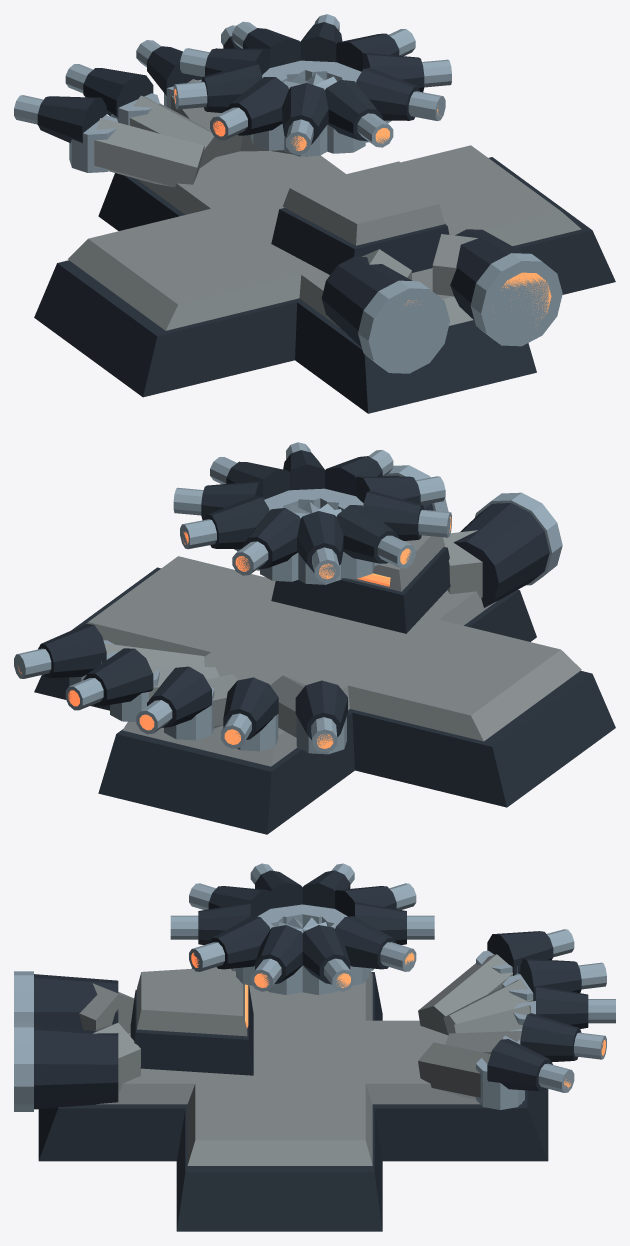
Rendered from c3_miniboss.glb.
The picture shows the model from 3 angles, top to bottom: view 1: azimuth 30°, elevation 25°; view 2: azimuth 150°, elevation 25°; view 3: azimuth 270°, elevation 25°; orthographic projection. The views are drawn at different scales.
Visible parts, largest first — view 1: miniboss / Armor, miniboss / Chassis, miniboss / Titanium, ring_rotor / Chassis, ring_rotor / Titanium, miniboss / Energy, ring_rotor / Energy; view 2: miniboss / Chassis, miniboss / Armor, ring_rotor / Chassis, ring_rotor / Titanium, miniboss / Titanium, miniboss / Energy, ring_rotor / Energy; view 3: miniboss / Chassis, miniboss / Armor, ring_rotor / Chassis, ring_rotor / Titanium, miniboss / Titanium, ring_rotor / Energy.
Boxes of the visible parts, <box> form: miniboss / Armor: <box>68,79,581,330</box>; miniboss / Chassis: <box>34,36,615,413</box>; miniboss / Titanium: <box>14,25,562,373</box>; ring_rotor / Chassis: <box>201,22,424,144</box>; ring_rotor / Titanium: <box>173,14,451,156</box>; miniboss / Energy: <box>407,272,551,319</box>; ring_rotor / Energy: <box>174,89,440,151</box>; miniboss / Chassis: <box>34,475,615,834</box>; miniboss / Armor: <box>86,530,581,766</box>; ring_rotor / Chassis: <box>201,450,424,572</box>; ring_rotor / Titanium: <box>173,442,451,584</box>; miniboss / Titanium: <box>14,465,562,754</box>; miniboss / Energy: <box>18,573,390,748</box>; ring_rotor / Energy: <box>183,517,451,579</box>; miniboss / Chassis: <box>34,931,588,1231</box>; miniboss / Armor: <box>79,954,533,1165</box>; ring_rotor / Chassis: <box>198,870,406,984</box>; ring_rotor / Titanium: <box>170,863,434,995</box>; miniboss / Titanium: <box>14,929,615,1111</box>; ring_rotor / Energy: <box>191,952,414,988</box>.
Bounding box in the file's own units: 1.68 × 0.785 × 1.96.
